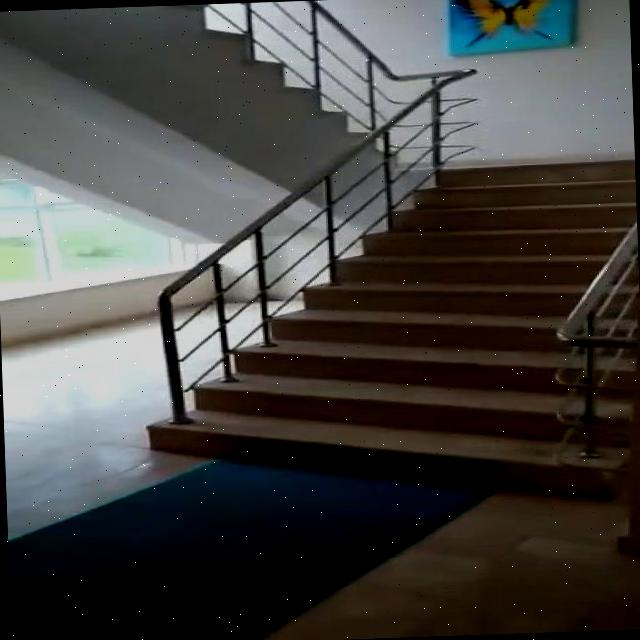stairs: (136, 156, 640, 512)
